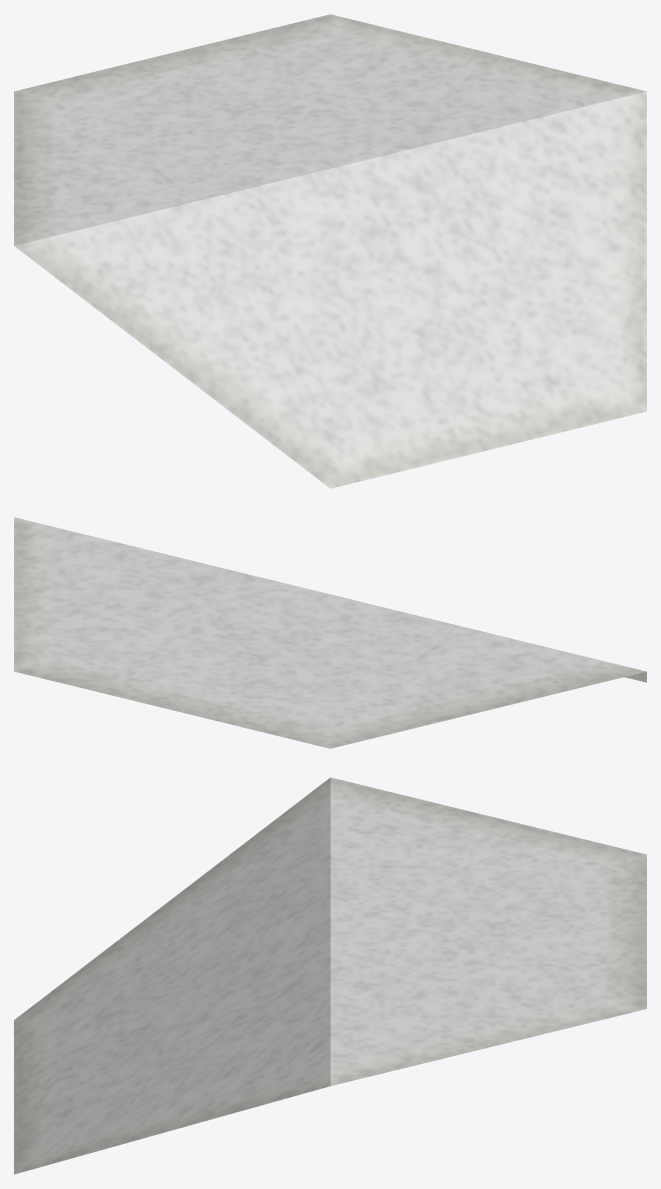
File: HexaTile_PHC.FBX
The picture shows the model from 3 angles, top to bottom: view 1: azimuth 30°, elevation 25°; view 2: azimuth 150°, elevation 25°; view 3: azimuth 270°, elevation 25°; orthographic projection.
Parts seen in each view (by area): view 1: HexaTile_PHC; view 2: HexaTile_PHC; view 3: HexaTile_PHC.
Boxes of the visible parts, box(x1,y1,x2,y2) form: HexaTile_PHC: box(14, 14, 646, 488); HexaTile_PHC: box(14, 517, 646, 748); HexaTile_PHC: box(14, 777, 646, 1174).
Bounding box in the file's own units: 1 × 0.25 × 0.866.
